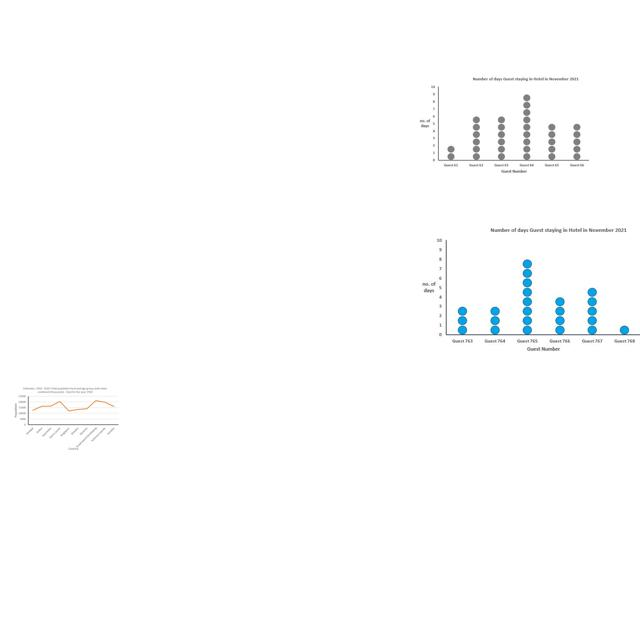Graph: (420, 225, 640, 355), (418, 75, 589, 176), (11, 386, 120, 451)
